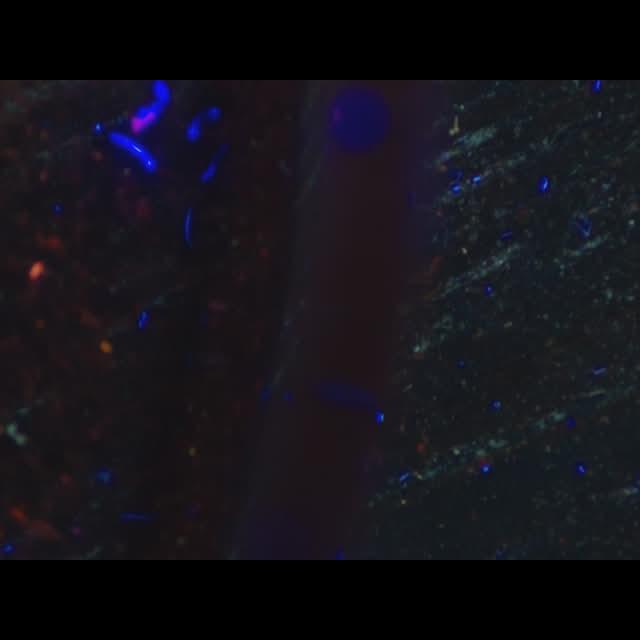Fibre: (7, 422, 27, 446)
